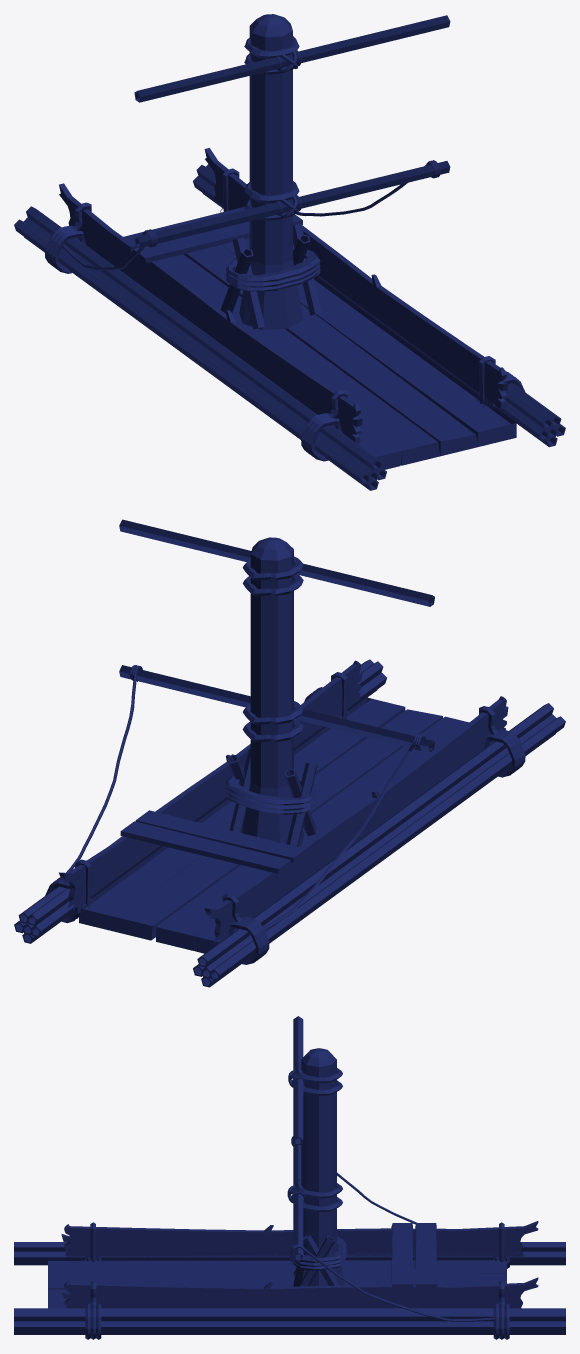
3 views of the same model, one above another, from view 1: azimuth 30°, elevation 25°; view 2: azimuth 150°, elevation 25°; view 3: azimuth 270°, elevation 25° (orthographic). The views are drawn at different scales.
Visible parts, largest first — view 1: Object088, Object072, Object086, Object083, Object081, Object082, Object084, palo, palo001, Object090, Object071, Object070 (+6 smaller); view 2: Object088, Object072, Object086, Object083, Object082, Object084, Object081, Object090, palo, palo001, Object071, Object089 (+7 smaller); view 3: Object081, Object086, Object072, Object075, Object074, Object085, Object084, Object088, Object090, Object078, Object073, palo (+6 smaller).
Boxes of the visible parts, x1,y1,x2,y2 form: Object088: (14, 206, 386, 490); Object072: (239, 14, 302, 329); Object086: (59, 183, 362, 443); Object083: (222, 238, 516, 446); Object081: (204, 148, 508, 408); Object082: (183, 245, 478, 456); Object084: (157, 254, 440, 465); palo: (134, 15, 450, 102); palo001: (134, 161, 450, 247); Object090: (117, 206, 302, 263); Object071: (220, 223, 321, 329); Object070: (226, 244, 320, 291); Object088: (193, 703, 565, 987); Object072: (242, 537, 303, 847); Object086: (204, 696, 508, 943); Object083: (79, 697, 405, 931); Object082: (116, 709, 442, 940); Object084: (156, 716, 468, 950); Object081: (59, 660, 362, 908); Object090: (120, 810, 306, 873); palo: (119, 519, 434, 606); palo001: (119, 665, 434, 752); Object071: (227, 748, 317, 846); Object089: (45, 859, 269, 964); Object081: (61, 1277, 538, 1308); Object086: (61, 1221, 538, 1256); Object072: (293, 1048, 344, 1286); Object075: (14, 1321, 565, 1331); Object074: (14, 1311, 565, 1321); Object085: (48, 1260, 506, 1274); Object084: (48, 1274, 506, 1289); Object088: (14, 1242, 565, 1265); Object090: (391, 1223, 437, 1287); Object078: (14, 1331, 565, 1334); Object073: (14, 1308, 565, 1311); palo: (293, 1016, 303, 1144).
Bounding box in the file's own units: 757 × 744 × 1466.
